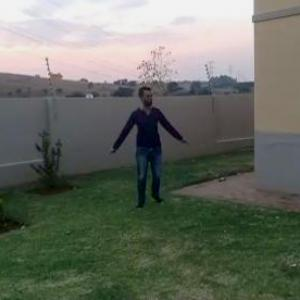land: (98, 90, 198, 226)
